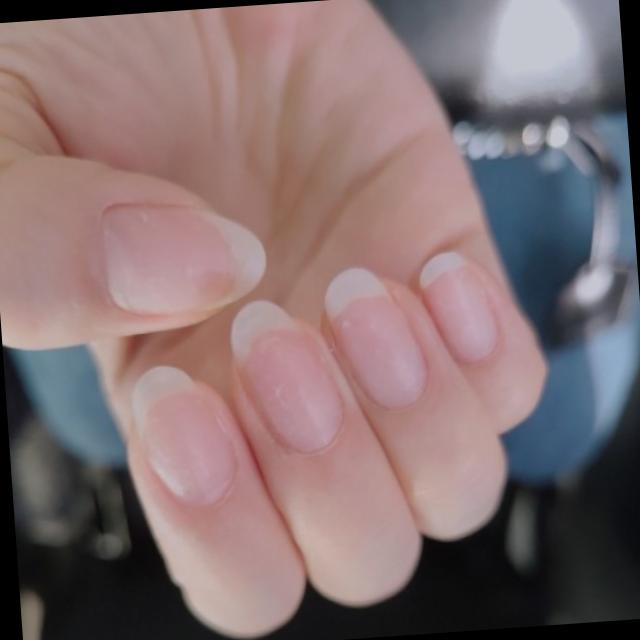Nail: (97, 205, 265, 314), (230, 298, 342, 451), (125, 364, 232, 504), (324, 267, 425, 408), (417, 249, 498, 362)
